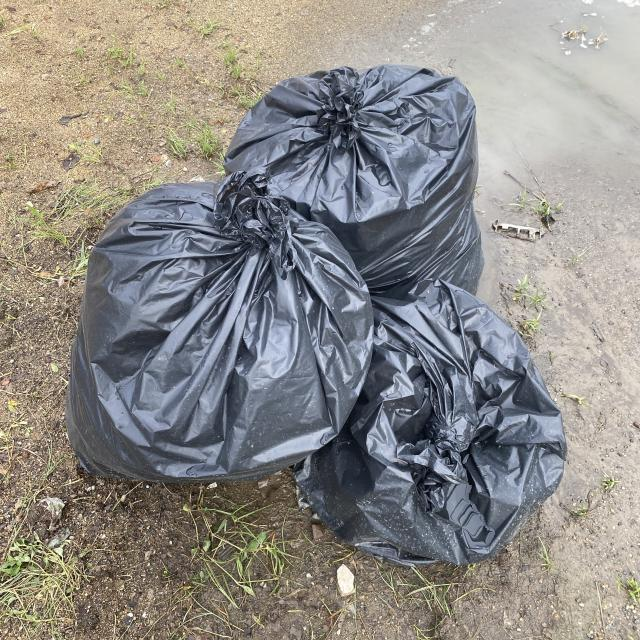Single-layer Plastic: (66, 169, 372, 481), (295, 280, 566, 565), (224, 65, 484, 291)
